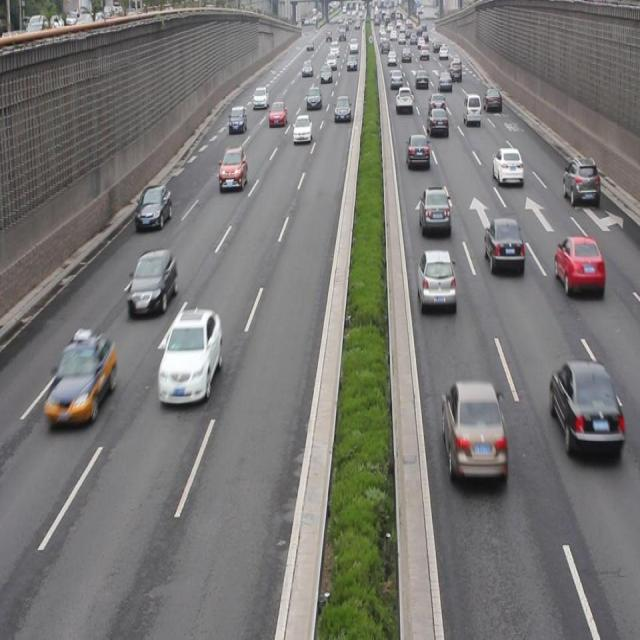car: (548, 359, 623, 458), (45, 331, 116, 426), (441, 378, 505, 480), (157, 305, 221, 405), (127, 246, 177, 319), (553, 234, 604, 296), (416, 248, 455, 310), (484, 215, 523, 276), (562, 155, 599, 208), (135, 182, 171, 230), (418, 185, 451, 237), (491, 145, 523, 188), (218, 144, 246, 190), (405, 132, 428, 170), (427, 106, 448, 138), (268, 98, 287, 128), (292, 114, 311, 143), (228, 105, 246, 132)
